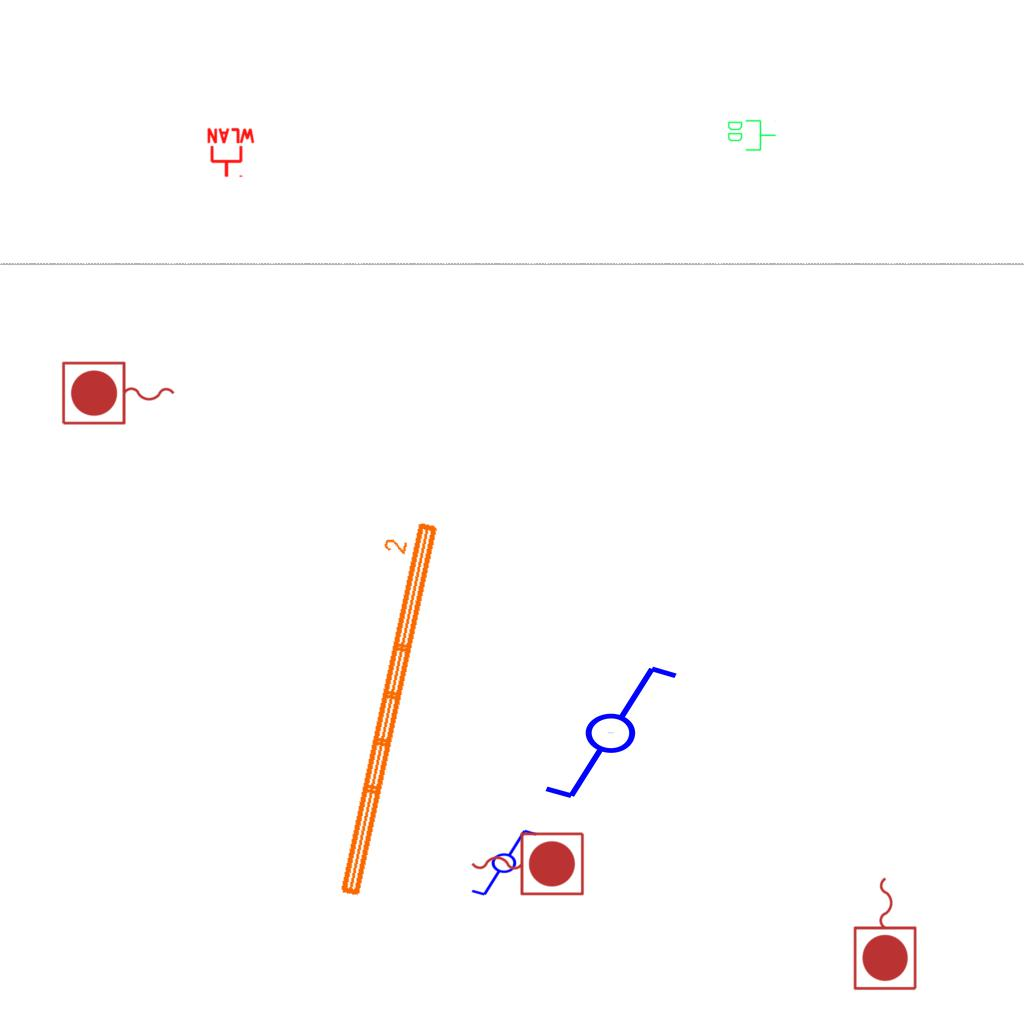Ambulanz_Pendelleuchte_LED: (308, 511, 445, 903)
Datenanschluss_zweifach: (726, 118, 777, 152)
WLAN: (205, 127, 257, 179)
Wechselschalter: (524, 659, 681, 803), (461, 826, 539, 898)
Zugtaster: (850, 872, 922, 994), (58, 358, 180, 430), (466, 827, 588, 899)
